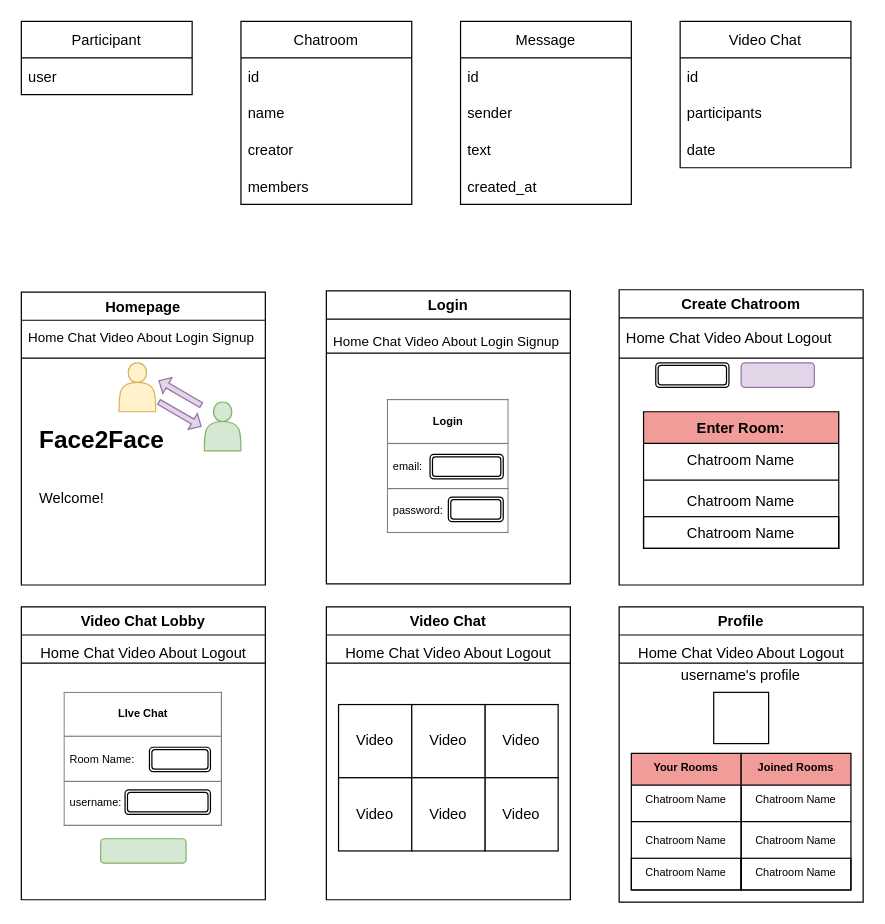
This 885x924 diagram has some shape labels left out. Each missing label, with the centre of its shape:
Create: (777,374)
Join Stream: (142,850)
Photo: (740,717)
